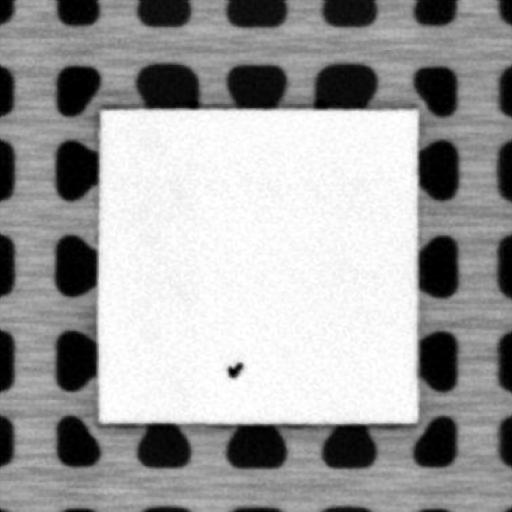DIE_INK: (225, 358, 242, 378)
